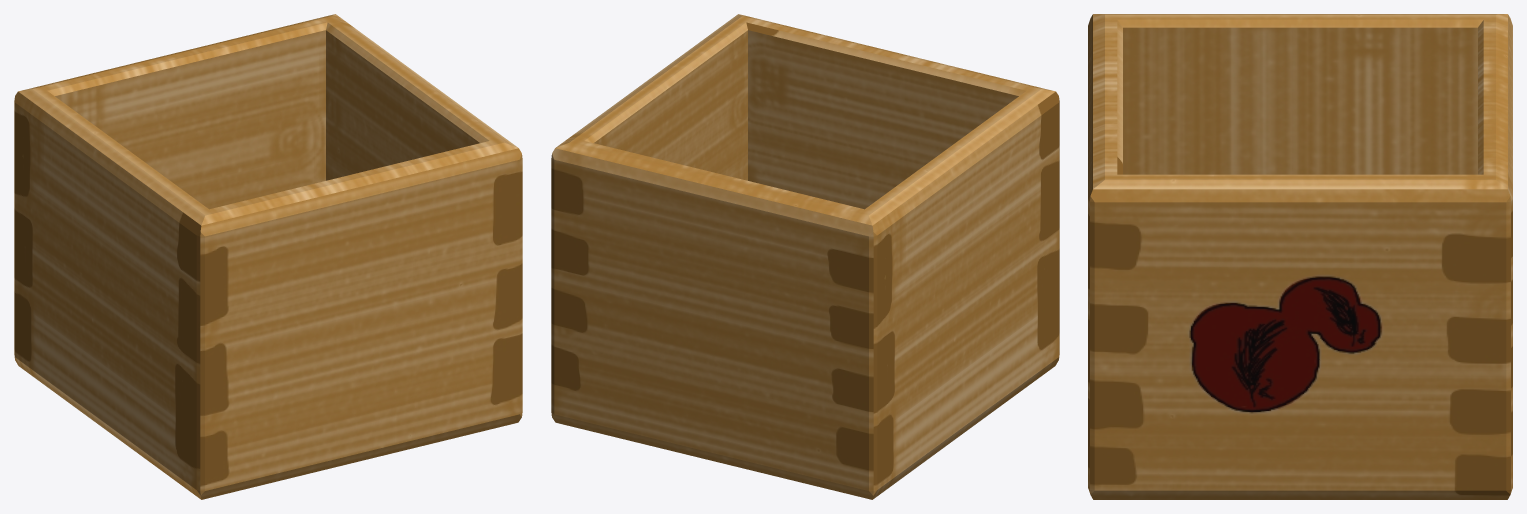
File: sake cup fbx file negativni.fbx
3 renders of one model, left to right at view 1: azimuth 30°, elevation 25°; view 2: azimuth 150°, elevation 25°; view 3: azimuth 270°, elevation 25°, orthographic. The views are drawn at different scales.
Visible parts, largest first — view 1: sake cup; view 2: sake cup; view 3: sake cup.
Boxes of the visible parts, x1,y1,x2,y2 form: sake cup: (14,14,522,499); sake cup: (551,14,1059,499); sake cup: (1088,14,1512,499).
Size of the model in its own units: 48.06 by 39.94 by 48.06.
Materials: 1 (1 with a texture image).
